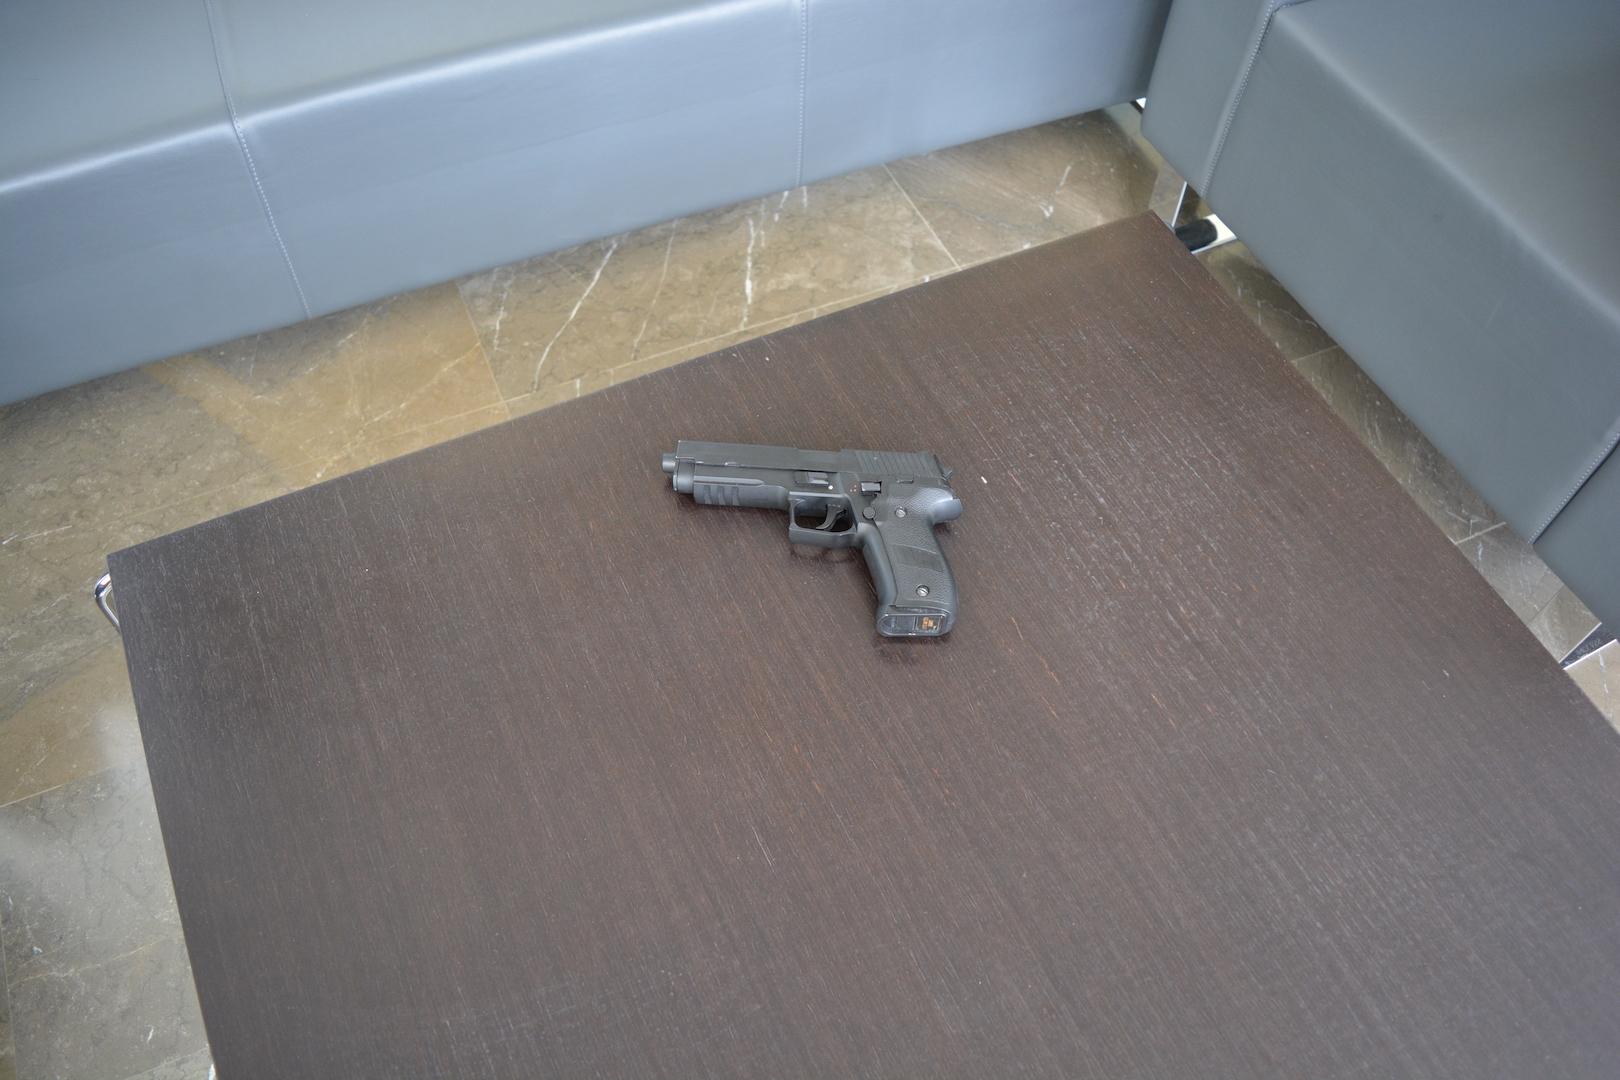pistol: (661, 439, 962, 640)
